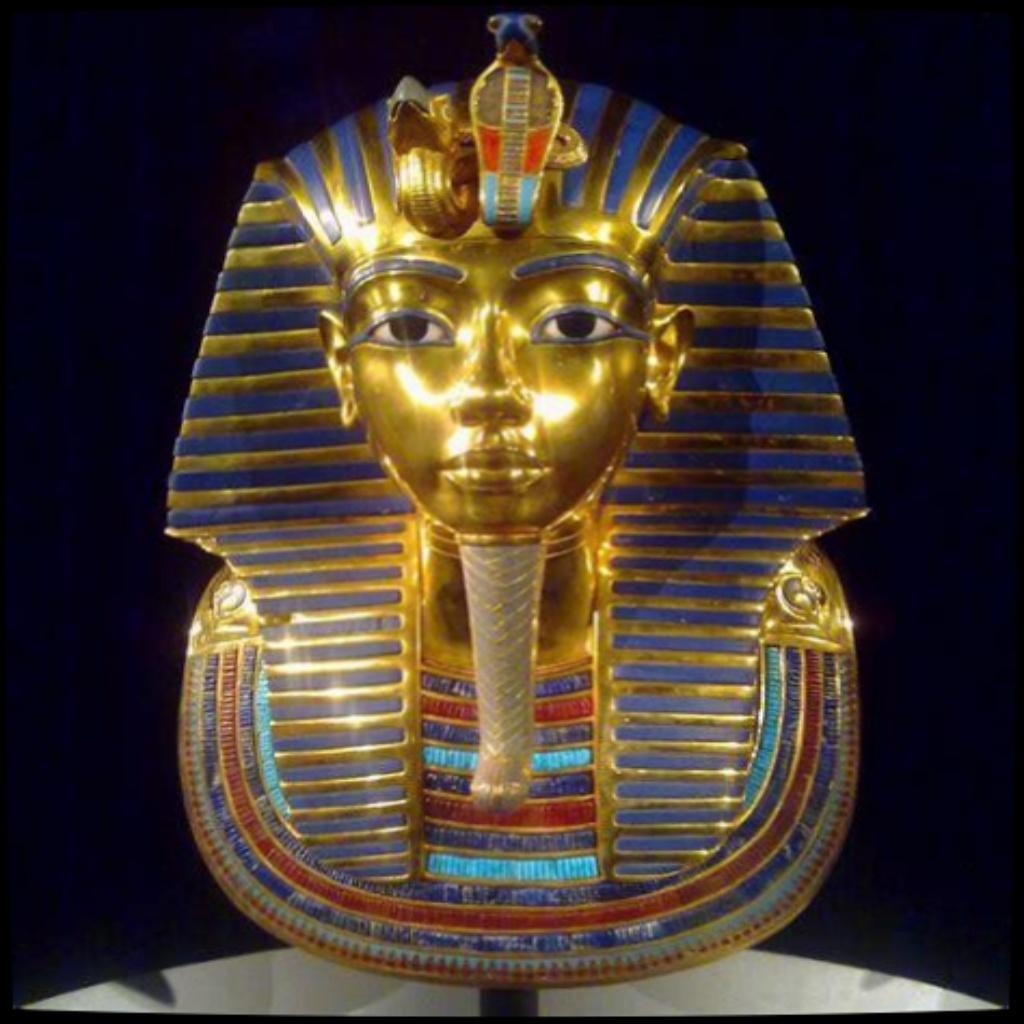Mask of Tutankhamun: (160, 12, 873, 990)
